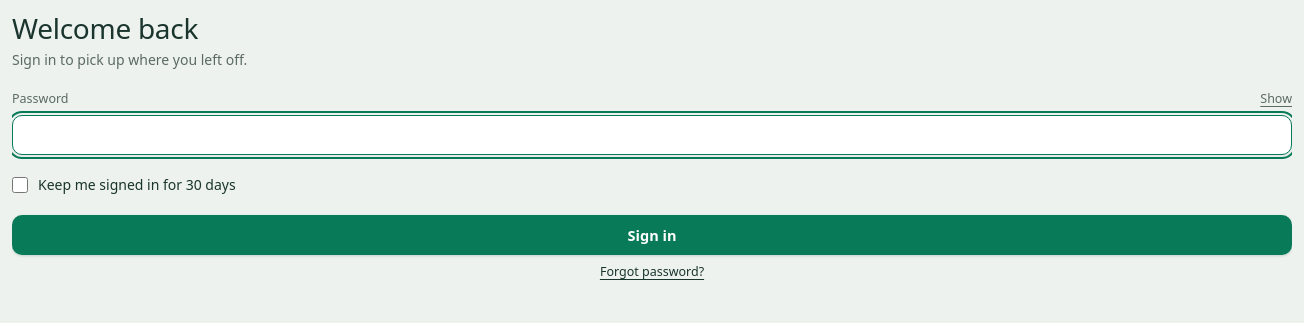
Scenario: LoginForm › shows the server's error, and clears it when typing again
Type "hunter2" into the password field labelled "Password".
click(652, 135); type("hunter2")  # box [12, 115, 1292, 155]
Then press Enter
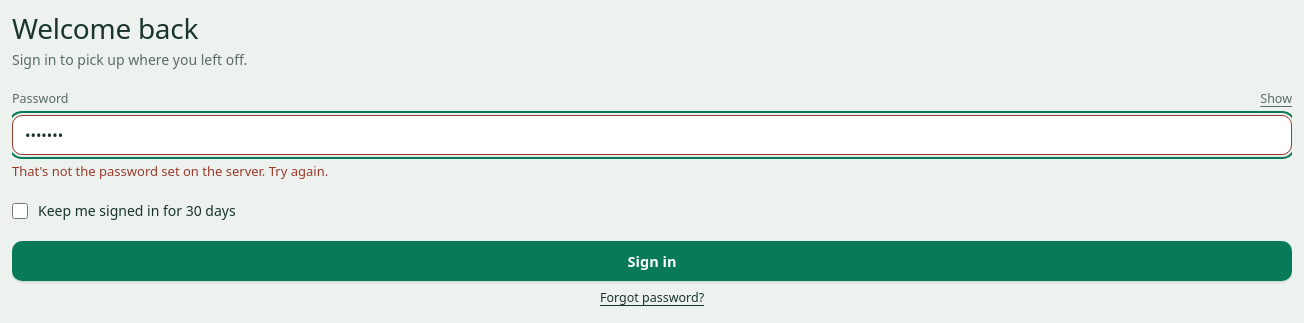
Check: the message reads "That's not the password set on the server. Try again.", box [12, 162, 328, 180]
Type "x" into the password field labelled "Password".
click(652, 135); type("x")  # box [12, 115, 1292, 155]
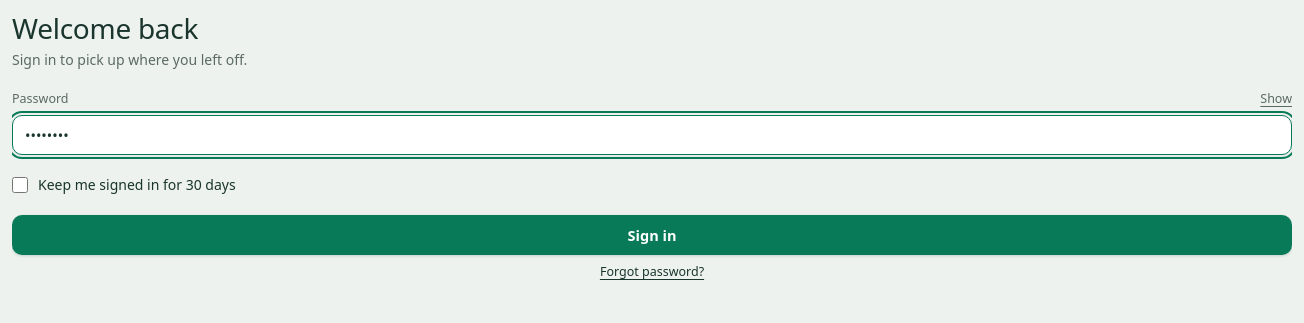
Check: the message "That's not the password set on the server. Try again." is gone
